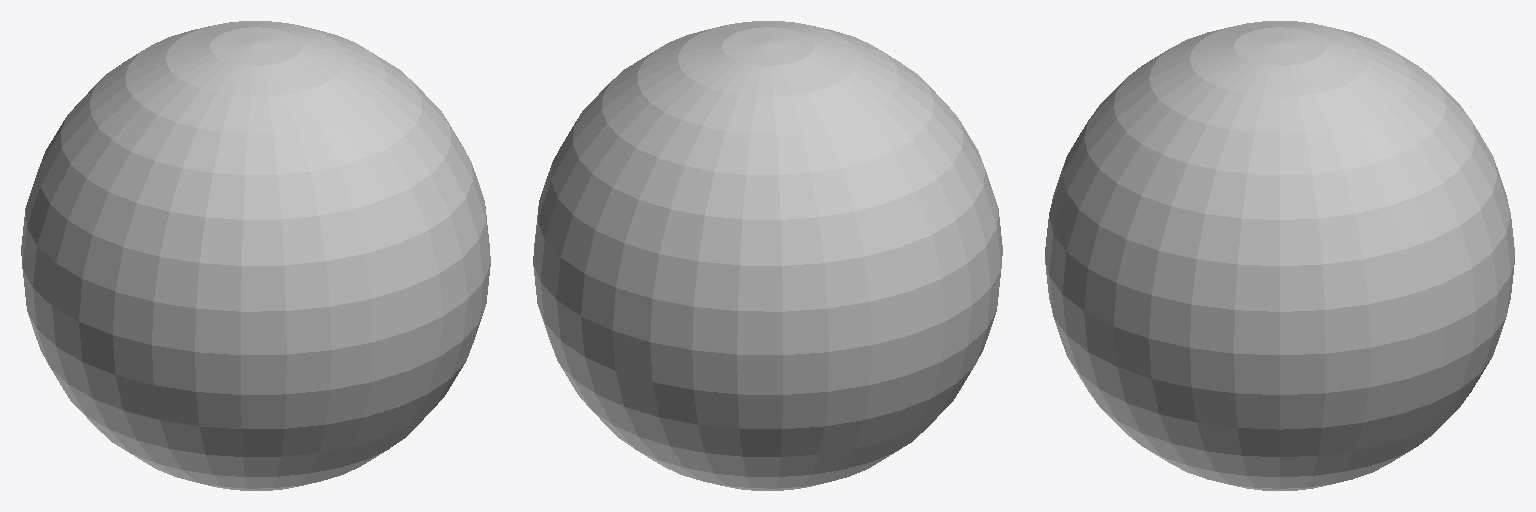
File: bbb.obj
3 renders of one model, left to right at view 1: azimuth 30°, elevation 25°; view 2: azimuth 150°, elevation 25°; view 3: azimuth 270°, elevation 25°, orthographic.
Parts seen in each view (by area): view 1: Sphere001; view 2: Sphere001; view 3: Sphere001.
Boxes of the visible parts, x1,y1,x2,y2 form: Sphere001: [21, 21, 490, 490]; Sphere001: [533, 21, 1002, 490]; Sphere001: [1045, 21, 1514, 490].
Size of the model in its own units: 125 by 125 by 125.